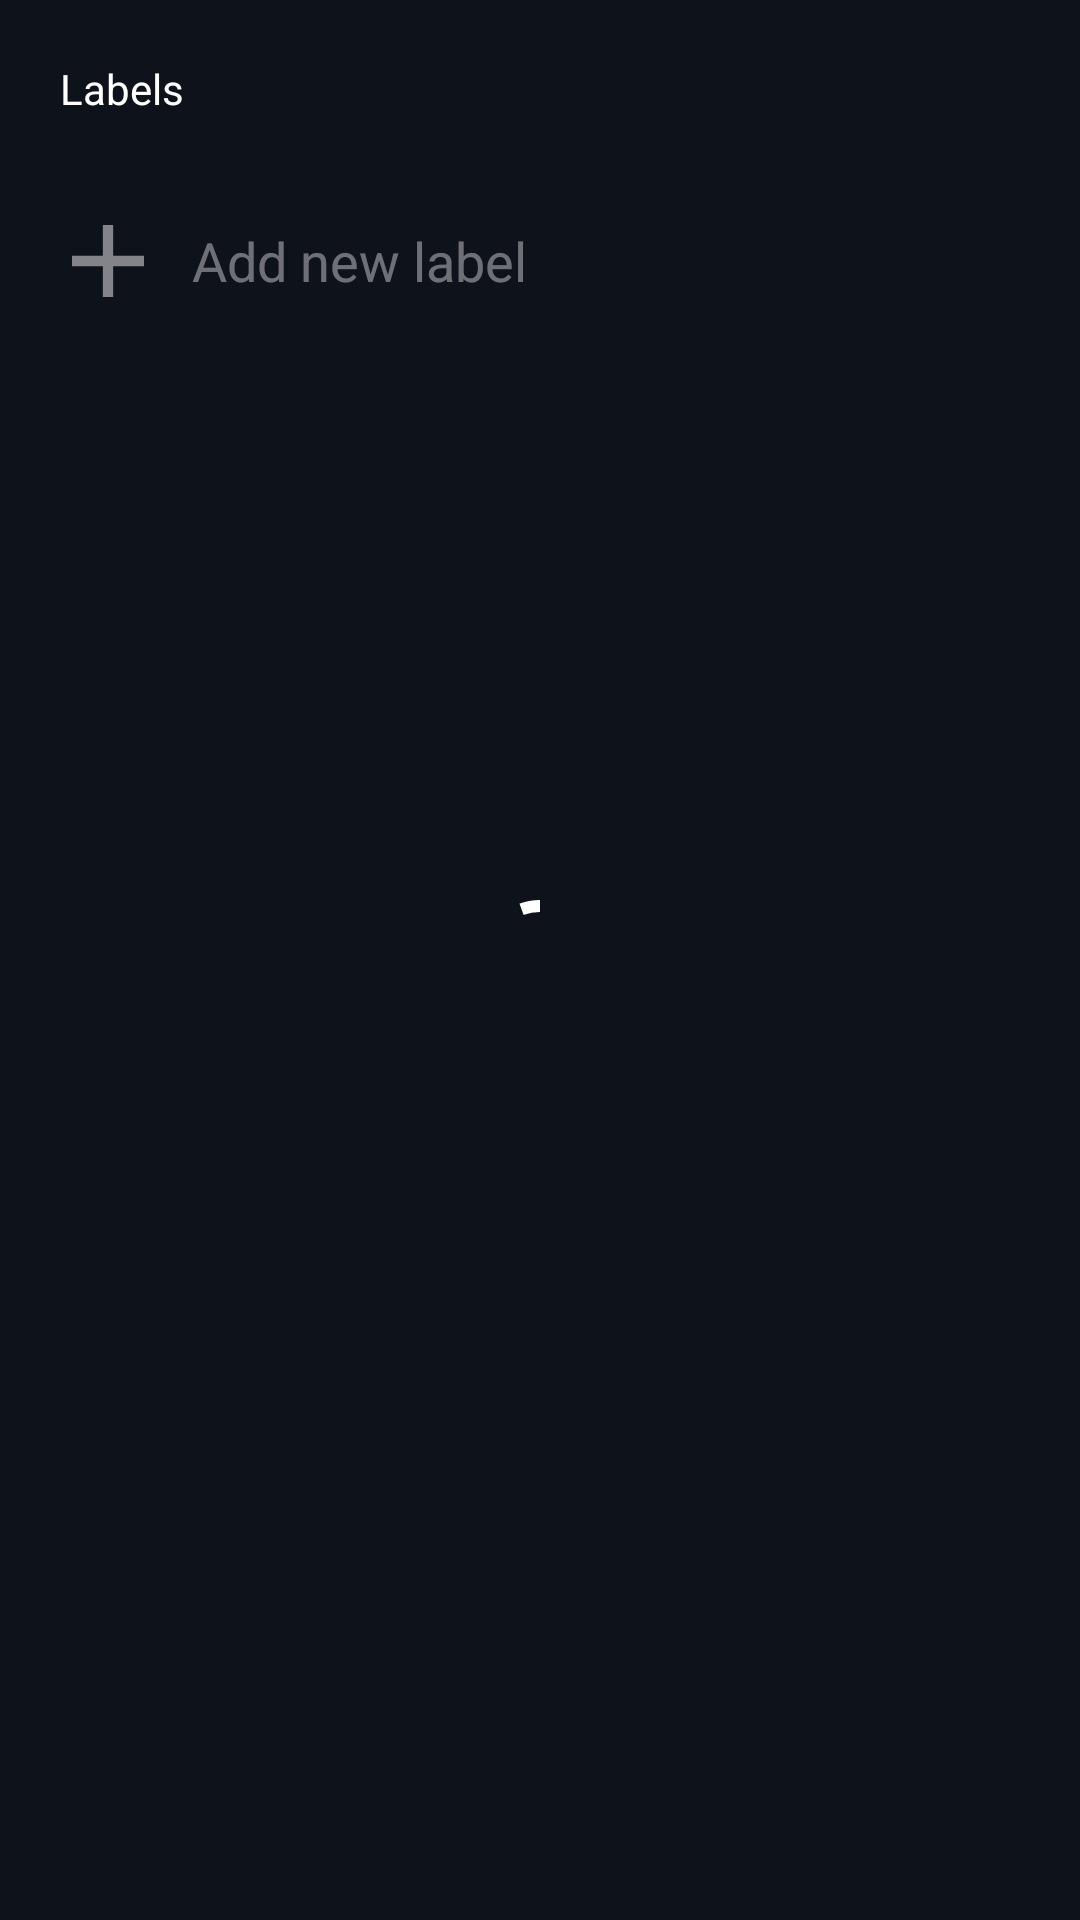

Icon bounding boxes for this 1080*1920 phone screenshot, format (x1, y1, x2, y2):
plus: (72, 225, 144, 297)
